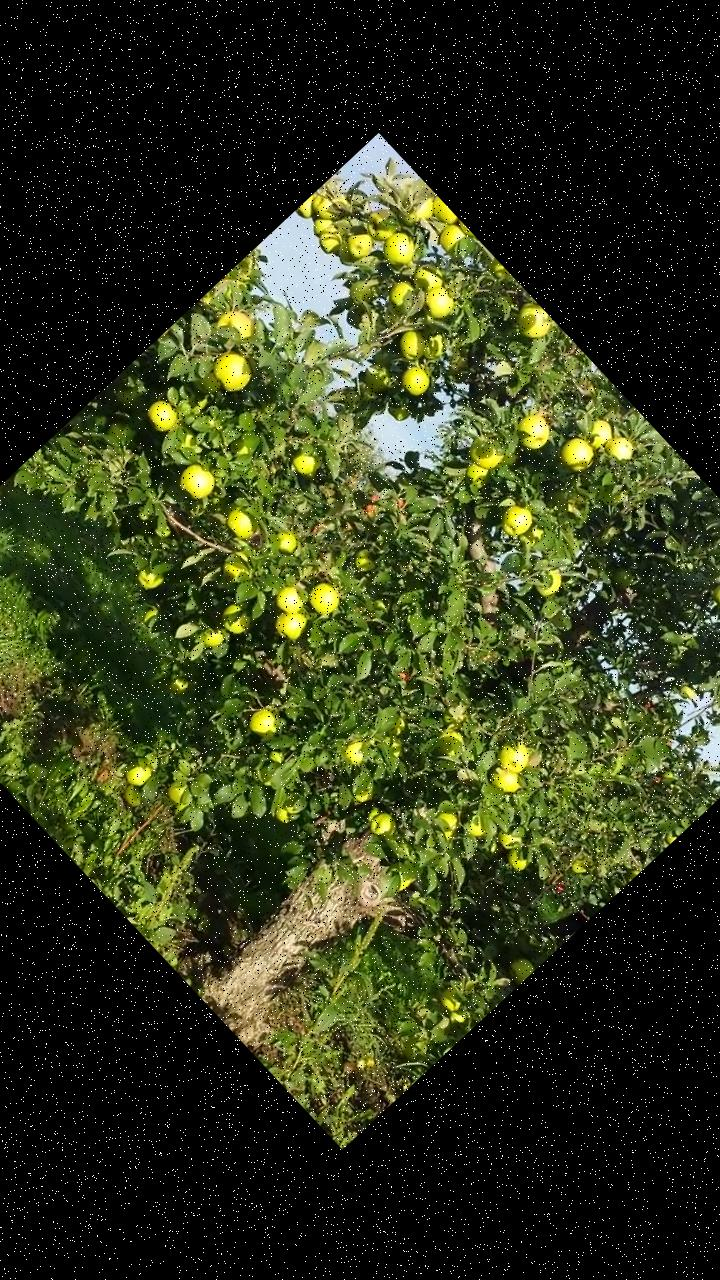Apple: (206, 344, 255, 394), (508, 404, 555, 452), (462, 425, 509, 472), (509, 296, 555, 344), (376, 225, 420, 270), (174, 458, 218, 502), (397, 189, 441, 232), (214, 542, 257, 586), (434, 218, 476, 261), (360, 202, 402, 245), (216, 301, 258, 344), (496, 496, 538, 538), (483, 758, 525, 799), (243, 702, 284, 742), (580, 412, 620, 452), (416, 280, 456, 320), (392, 323, 432, 363), (493, 733, 533, 773), (142, 394, 182, 434), (557, 434, 596, 474), (221, 502, 260, 542), (414, 324, 453, 363), (408, 258, 447, 296), (395, 361, 434, 399), (530, 560, 568, 598), (432, 724, 470, 762), (357, 360, 394, 398), (270, 578, 307, 616), (270, 604, 308, 641), (304, 578, 341, 615), (602, 429, 638, 465), (341, 224, 376, 260), (501, 950, 536, 986), (189, 365, 224, 400), (216, 600, 251, 634), (424, 194, 458, 228), (384, 274, 417, 308), (307, 189, 339, 222), (314, 222, 346, 255), (290, 444, 322, 476), (342, 734, 374, 766), (132, 560, 164, 592), (494, 819, 526, 850), (462, 458, 493, 489), (124, 758, 155, 788), (345, 276, 375, 306), (368, 810, 398, 840), (436, 984, 466, 1014), (383, 392, 412, 422), (383, 860, 412, 890), (461, 809, 490, 838), (350, 546, 378, 575), (379, 727, 407, 756), (164, 776, 192, 805), (294, 192, 322, 220), (334, 237, 362, 265), (270, 526, 298, 554), (504, 843, 532, 870), (119, 781, 146, 809), (609, 565, 636, 592), (434, 806, 462, 832), (384, 714, 410, 740), (272, 796, 298, 822), (444, 1004, 470, 1029), (521, 523, 545, 547), (201, 625, 225, 649), (486, 256, 508, 279), (309, 214, 332, 236), (354, 781, 376, 803), (362, 800, 384, 822), (167, 671, 189, 693), (265, 745, 285, 766), (709, 577, 719, 610), (142, 604, 160, 622)
